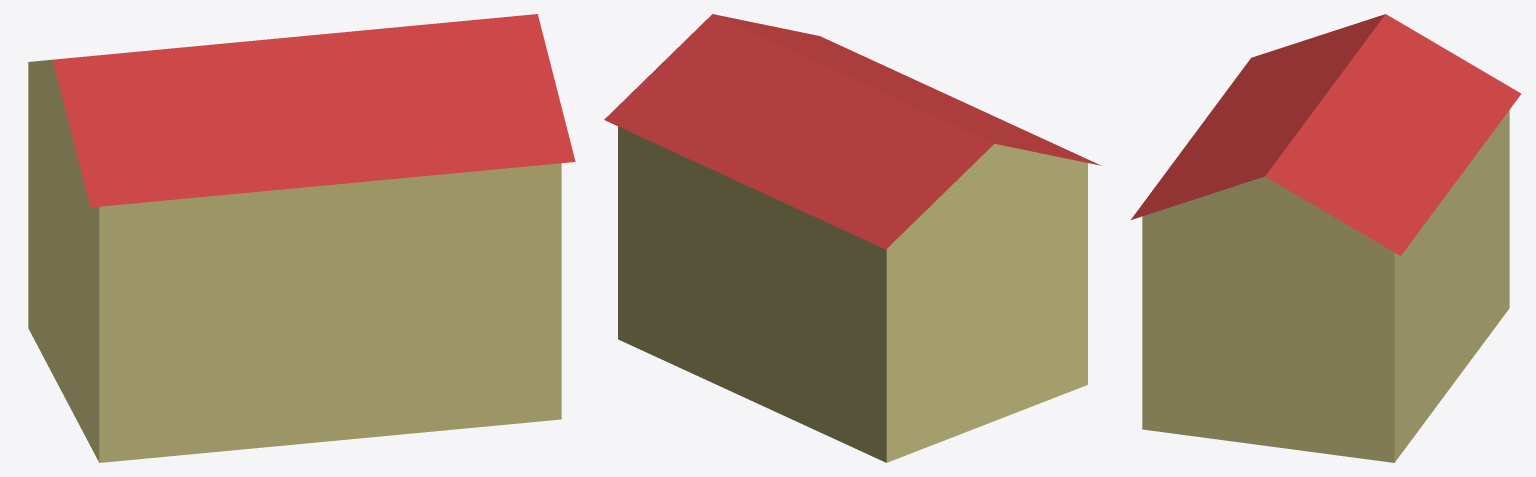
3 renders of one model, left to right at view 1: azimuth 30°, elevation 25°; view 2: azimuth 150°, elevation 25°; view 3: azimuth 270°, elevation 25°, orthographic. The views are drawn at different scales.
Visible parts, largest first — view 1: group_5, group_3, group_4; view 2: group_5, group_3, group_4; view 3: group_5, group_3, group_4.
Part boxes in pixels (left/top/right/bottom): group_5: left=28, top=59, right=561, bottom=462; group_3: left=52, top=14, right=561, bottom=207; group_4: left=53, top=14, right=575, bottom=207; group_5: left=618, top=126, right=1087, bottom=462; group_3: left=604, top=14, right=1101, bottom=248; group_4: left=651, top=14, right=1090, bottom=249; group_5: left=1142, top=110, right=1509, bottom=462; group_3: left=1143, top=14, right=1519, bottom=255; group_4: left=1131, top=14, right=1521, bottom=221.
Size of the model in its own units: 24.57 by 20.48 by 15.8.
